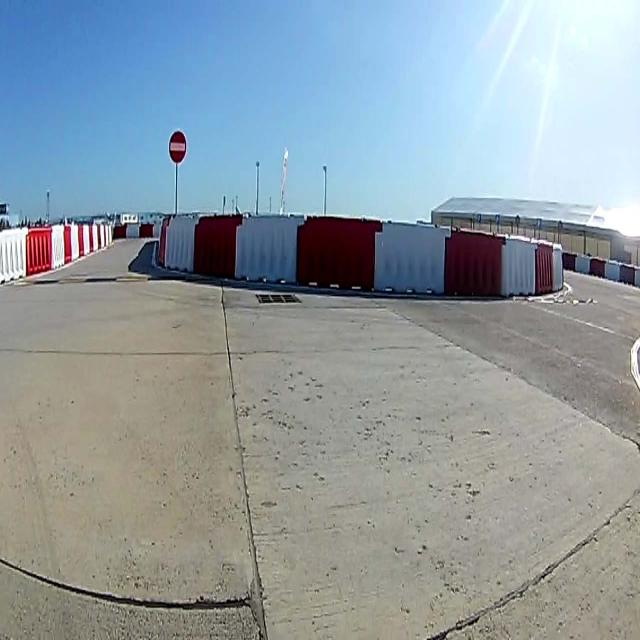girisyok: (169, 130, 187, 162)
